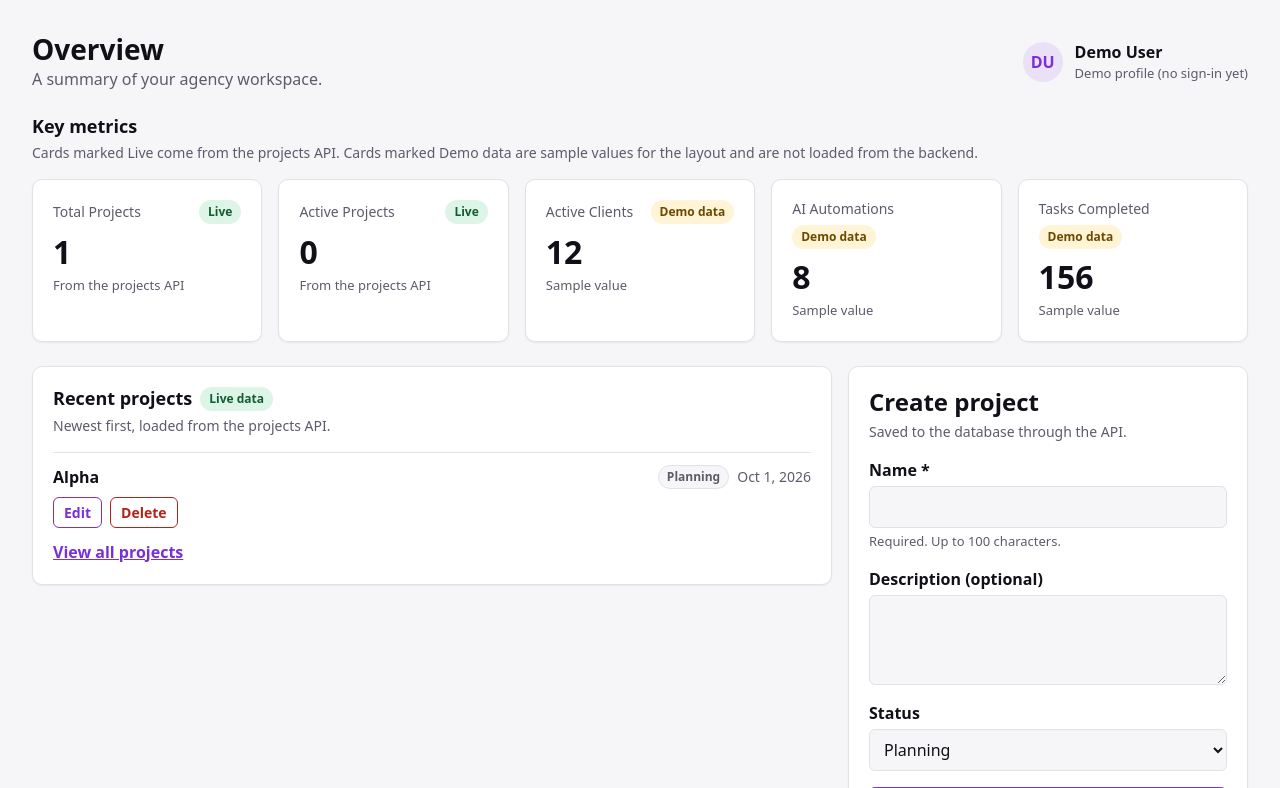
Scenario: Editing a project › shows Saving... and blocks the form until the save finishes
This screenshot has width=1280, height=788.
Click the button with aria-label "Edit Alpha" at x=78, y=512, box left=53, top=496, right=102, bottom=528
(page scrolled)
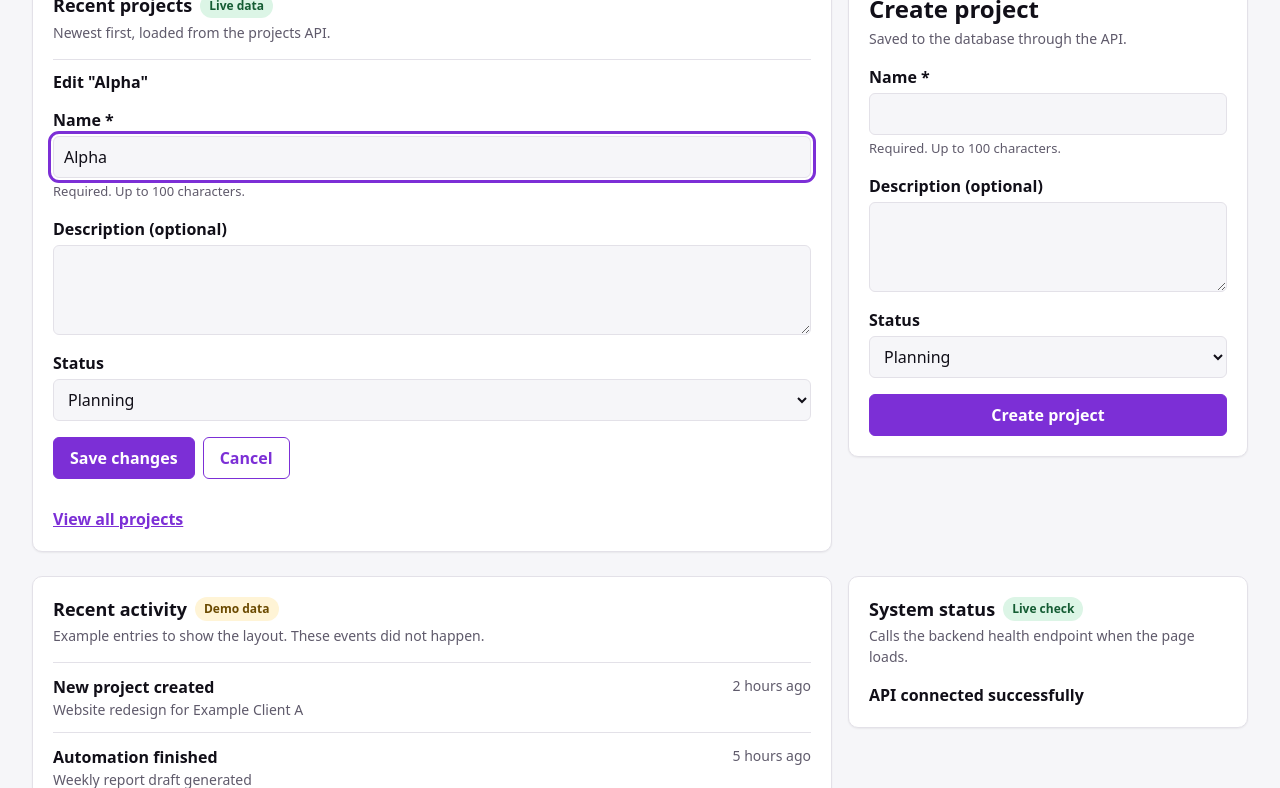
Select "Completed" in the dropdown labelled "Status" below "Edit \"" at x=432, y=400, box left=53, top=379, right=811, bottom=421
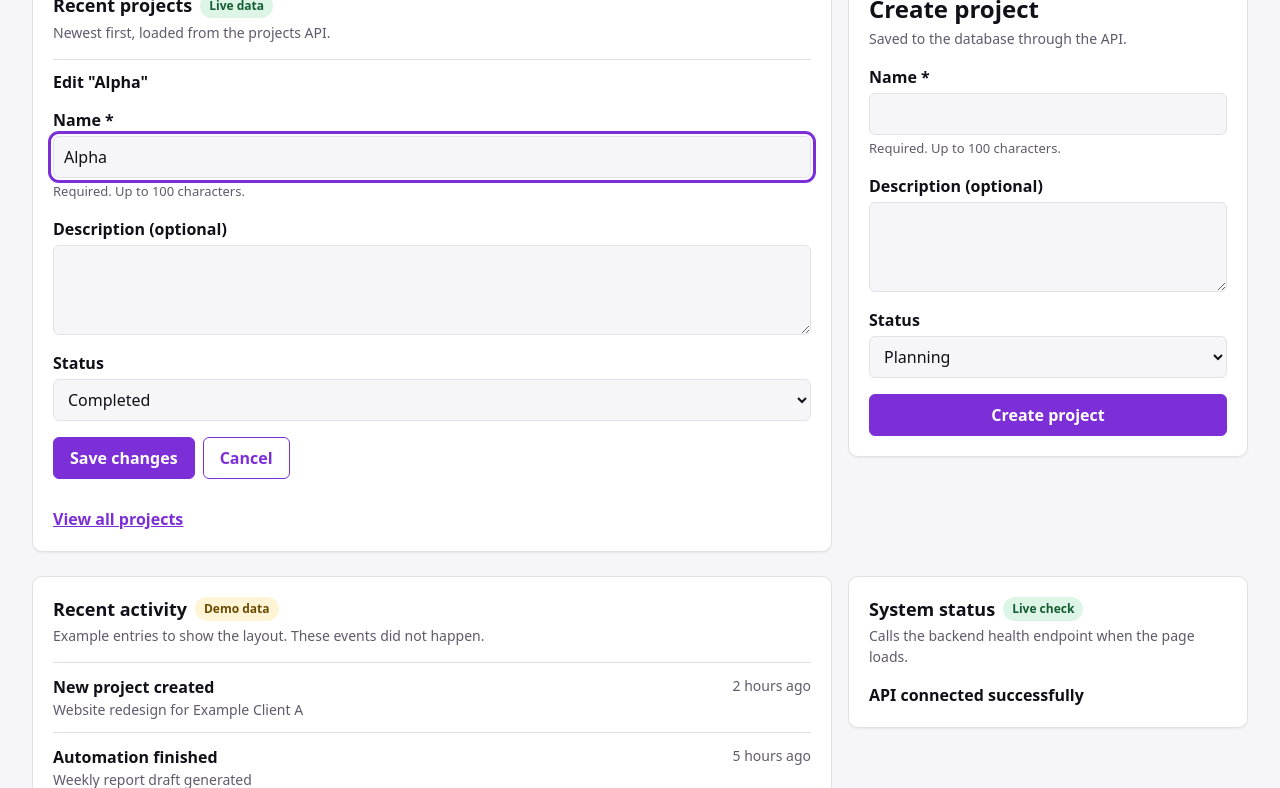
Click the button "Save changes" at x=124, y=458, box left=53, top=437, right=195, bottom=479
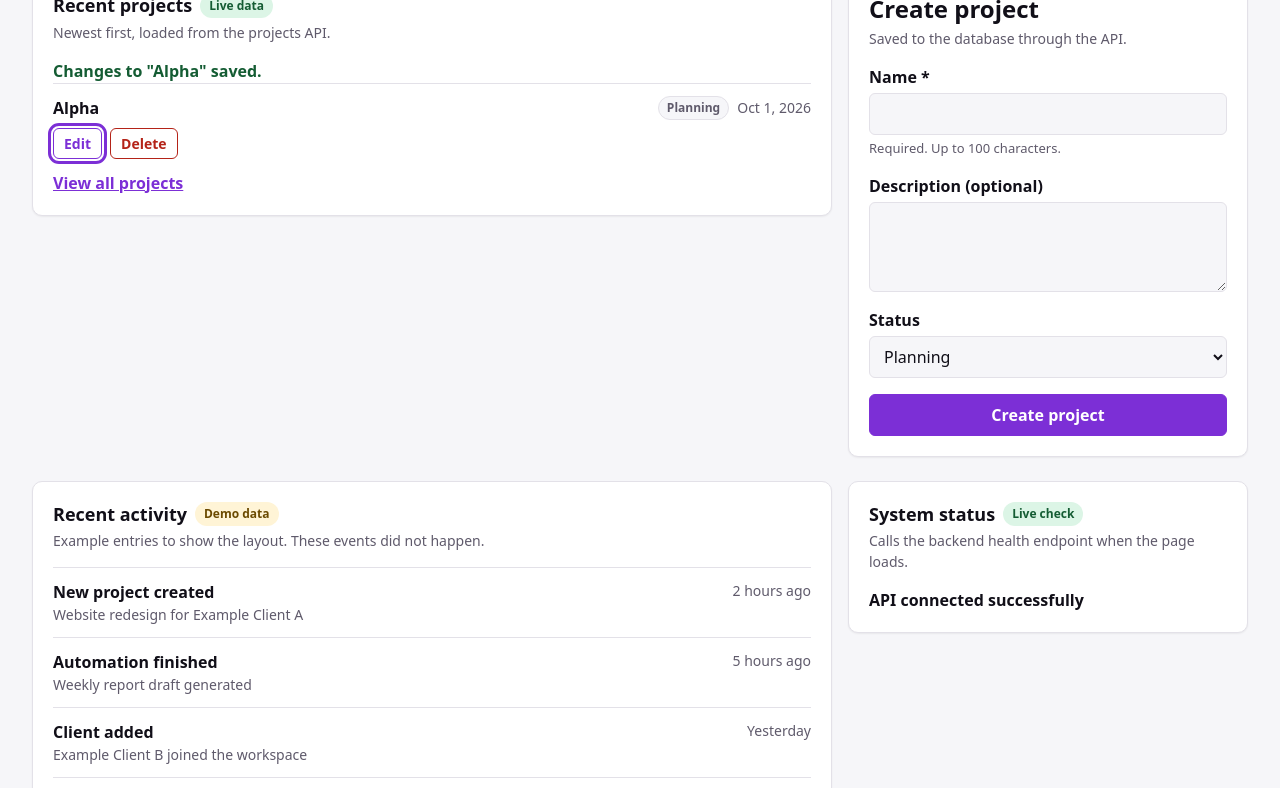
expect the text "Changes to \"Alpha\" saved." is shown: met, box left=53, top=60, right=262, bottom=82
